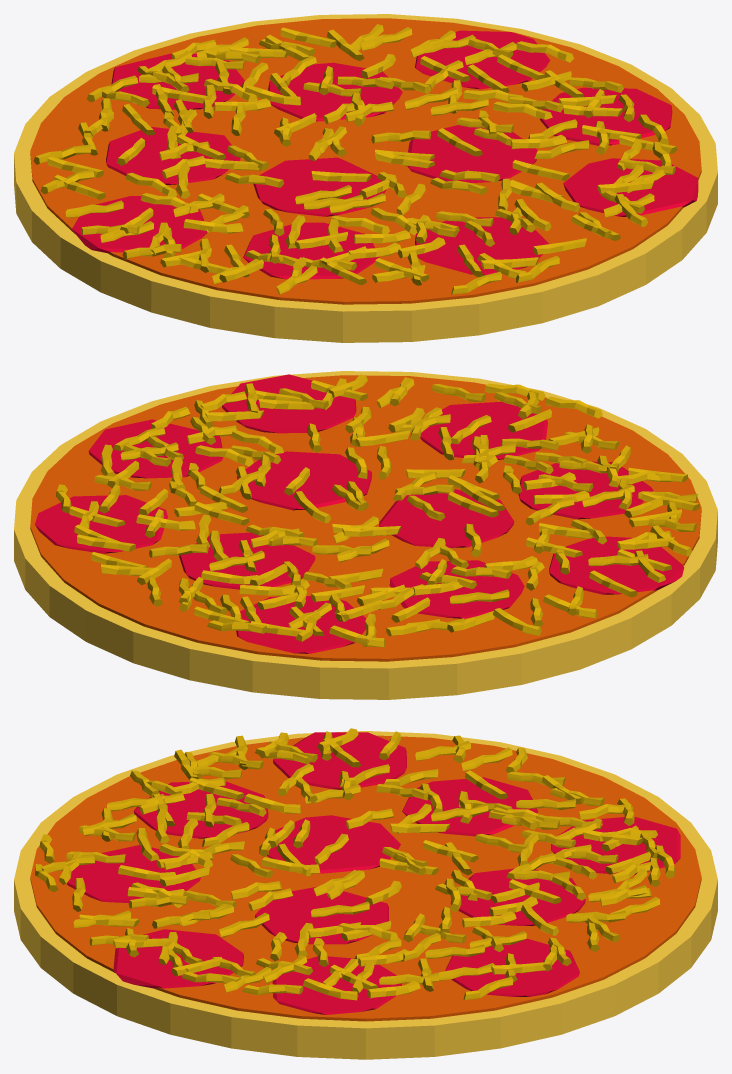
File: pizza_v1.glb
3 renders of one model, top to bottom at view 1: azimuth 30°, elevation 25°; view 2: azimuth 150°, elevation 25°; view 3: azimuth 270°, elevation 25°, orthographic.
Parts seen in each view (by area): view 1: Cylinder, Cylinder.012, Cylinder.010, Cylinder.011, Cylinder.008, Cylinder.002, Cylinder.009, Cylinder.003, Cylinder.005, Cylinder.006, Cylinder.007, Cylinder.001 (+16 smaller); view 2: Cylinder, Cylinder.012, Cylinder.011, Cylinder.008, Cylinder.005, Cylinder.003, Cylinder.010, Cylinder.009, Cylinder.002, Cylinder.007, Cylinder.006, Cylinder.004 (+12 smaller); view 3: Cylinder, Cylinder.012, Cylinder.008, Cylinder.010, Cylinder.005, Cylinder.003, Cylinder.011, Cylinder.007, Cylinder.002, Cylinder.009, Cylinder.006, Cylinder.001 (+9 smaller).
Part boxes in pixels (x1,y1,x2,y2): Cylinder: (30, 18, 701, 304); Cylinder.012: (14, 14, 717, 342); Cylinder.010: (563, 158, 698, 216); Cylinder.011: (407, 125, 537, 182); Cylinder.008: (253, 157, 386, 216); Cylinder.002: (106, 127, 240, 184); Cylinder.009: (415, 217, 548, 275); Cylinder.003: (72, 196, 207, 253); Cylinder.005: (415, 30, 550, 89); Cylinder.006: (268, 62, 402, 121); Cylinder.007: (540, 87, 672, 145); Cylinder.001: (243, 222, 379, 279); Cylinder: (30, 375, 701, 661); Cylinder.012: (14, 371, 717, 699); Cylinder.011: (237, 451, 371, 510); Cylinder.008: (379, 489, 514, 547); Cylinder.005: (35, 495, 167, 553); Cylinder.003: (549, 536, 684, 594); Cylinder.010: (222, 374, 356, 433); Cylinder.009: (420, 401, 547, 459); Cylinder.002: (389, 560, 524, 618); Cylinder.007: (88, 419, 223, 478); Cylinder.006: (179, 532, 315, 589); Cylinder.004: (236, 596, 366, 653); Cylinder: (30, 735, 701, 1021); Cylinder.012: (14, 731, 717, 1059); Cylinder.008: (267, 815, 400, 873); Cylinder.010: (113, 929, 243, 988); Cylinder.005: (445, 938, 579, 996); Cylinder.003: (273, 732, 406, 789); Cylinder.011: (255, 886, 388, 944); Cylinder.007: (272, 956, 401, 1014); Cylinder.002: (402, 777, 537, 836); Cylinder.009: (66, 845, 200, 902); Cylinder.006: (450, 868, 585, 925); Cylinder.001: (134, 781, 268, 838).
Size of the model in its own units: 2 by 0.1427 by 2.
